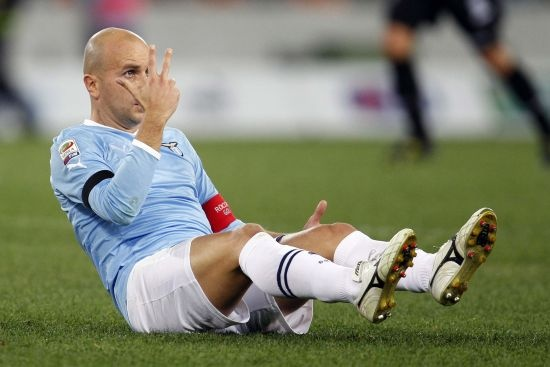falling: (43, 19, 505, 342)
